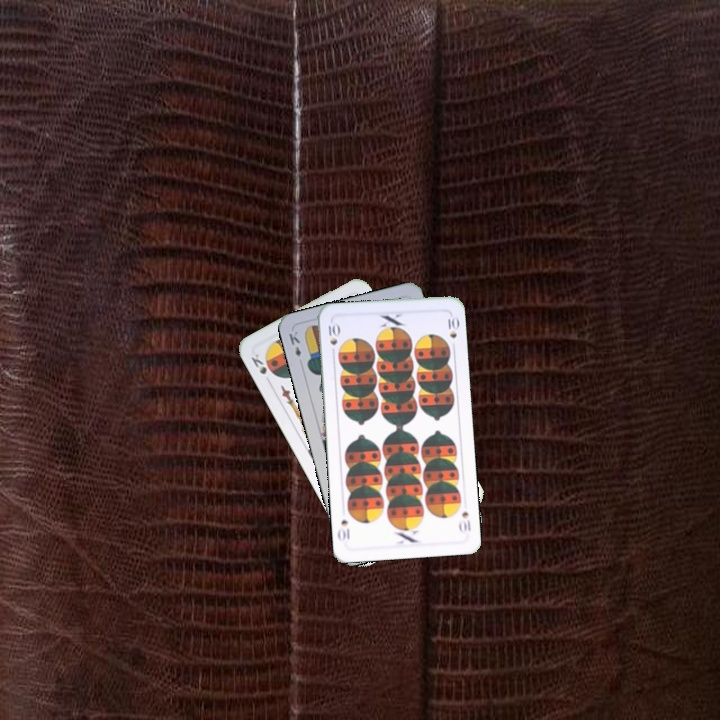EK: (285, 327, 304, 360)
S10: (324, 319, 341, 358), (455, 507, 473, 535)
SK: (247, 350, 276, 378)
